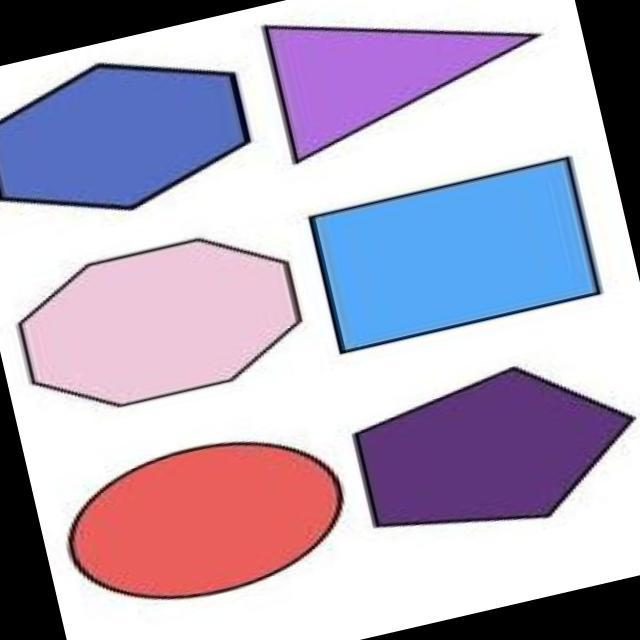circle: (49, 424, 358, 610)
square: (299, 155, 613, 370)
triangle: (255, 3, 571, 176)
